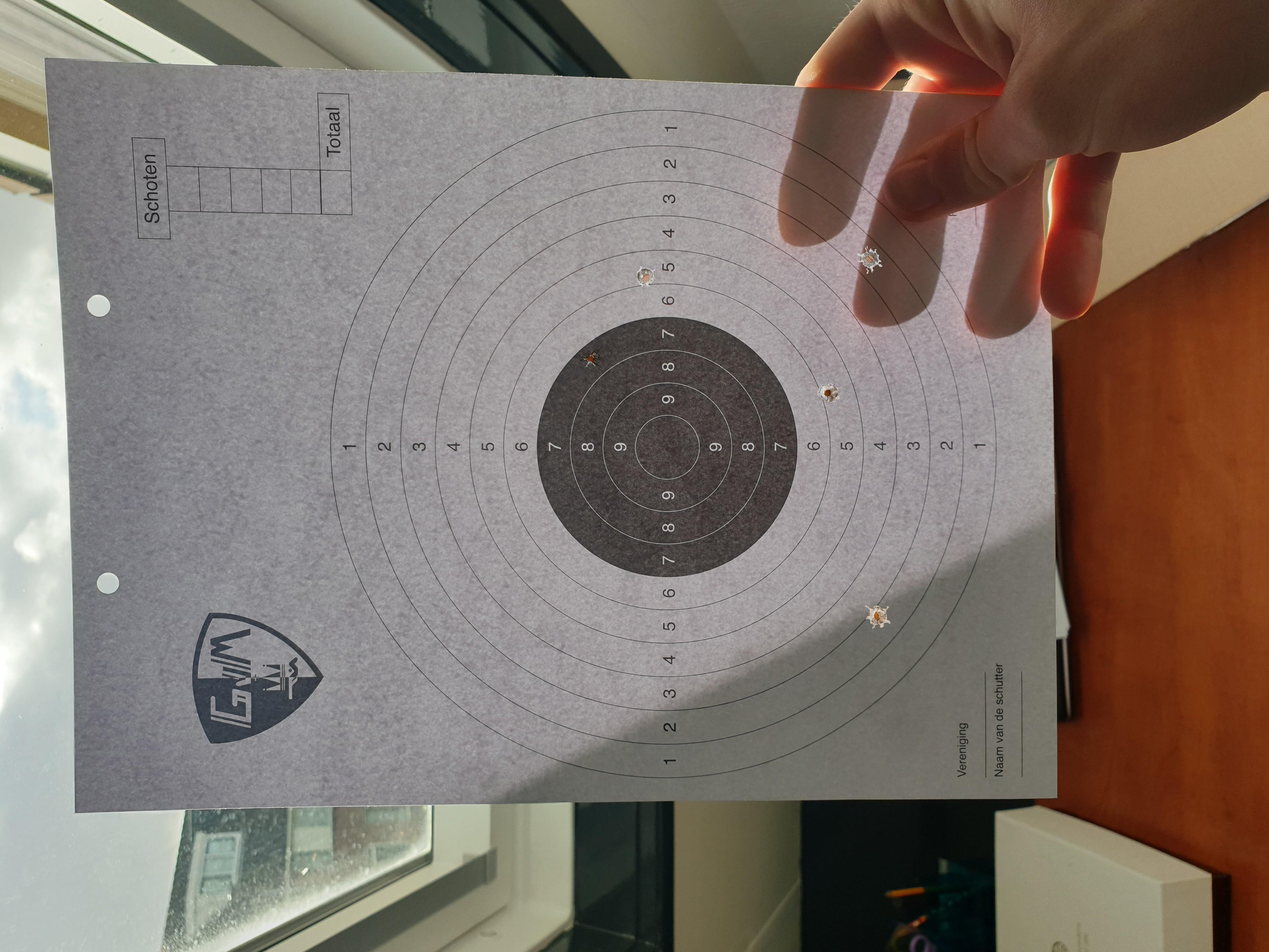hole: (863, 603, 890, 631), (858, 246, 882, 274), (580, 348, 602, 370), (818, 382, 840, 403), (635, 266, 656, 288)
